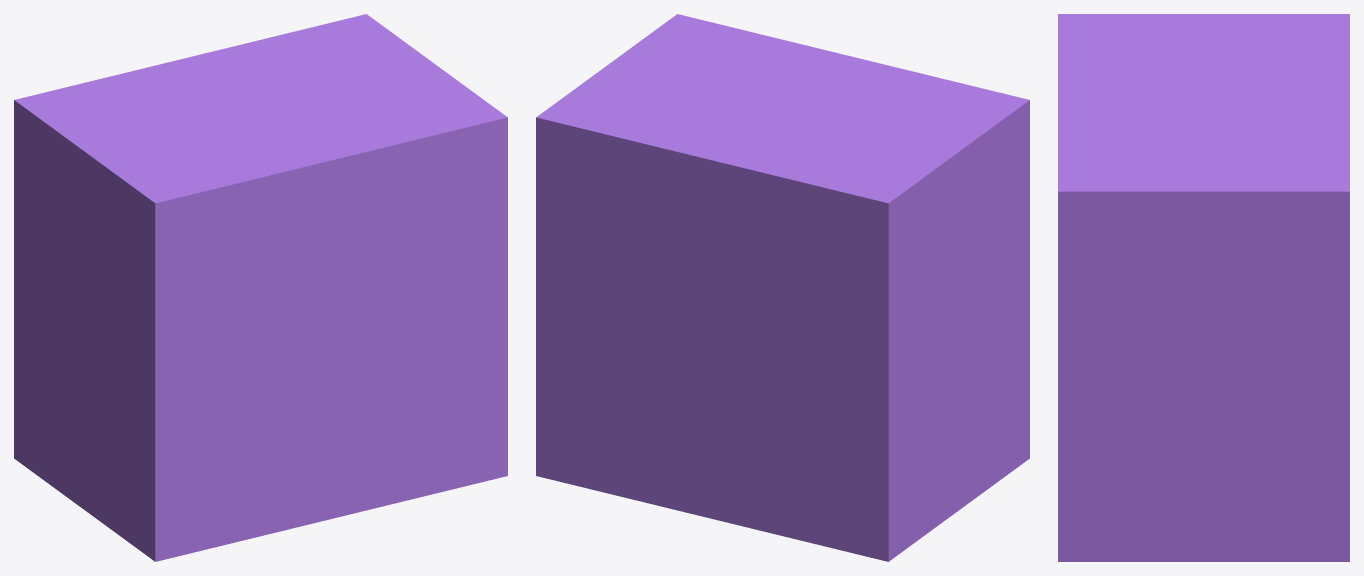
The picture shows the model from 3 angles, left to right: view 1: azimuth 30°, elevation 25°; view 2: azimuth 150°, elevation 25°; view 3: azimuth 270°, elevation 25°; orthographic projection. The views are drawn at different scales.
Visible parts, largest first — view 1: DT862-4_3x230_400V; view 2: DT862-4_3x230_400V; view 3: DT862-4_3x230_400V.
Part boxes in pixels (x1,y1,x2,y2): DT862-4_3x230_400V: [14, 14, 507, 561]; DT862-4_3x230_400V: [536, 14, 1029, 561]; DT862-4_3x230_400V: [1058, 14, 1349, 561].
Bounding box in the file's own units: 108 × 105 × 75.
